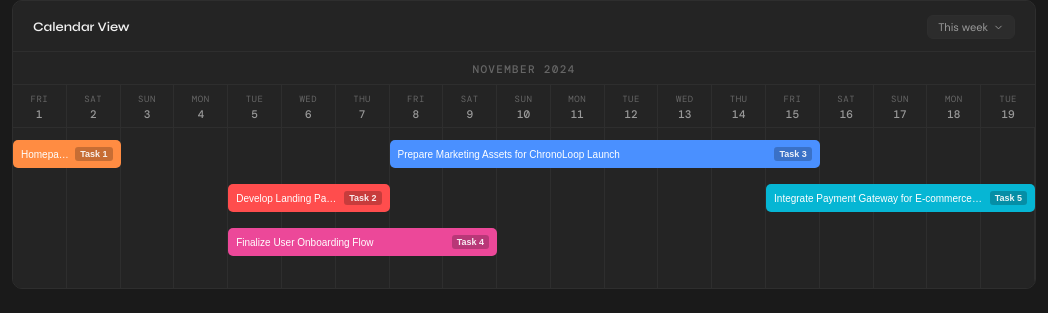
CalendarWidget › clicking a task pill opens its detail popup
The width and height of the screenshot is (1048, 313).
Click the text "Homepage for CareyCare App": x=45, y=154 [21,148,69,160]
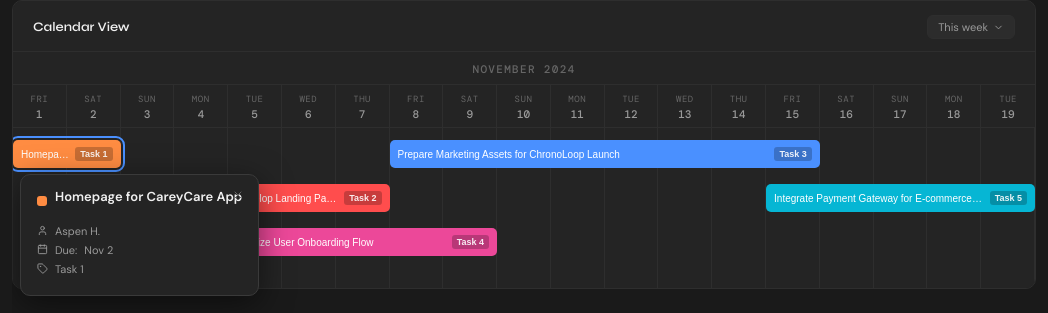
expect the text "Aspen H." is shown: met, box [55,224,100,238]
expect the text "Nov 2" is shown: met, box [84,243,113,257]
